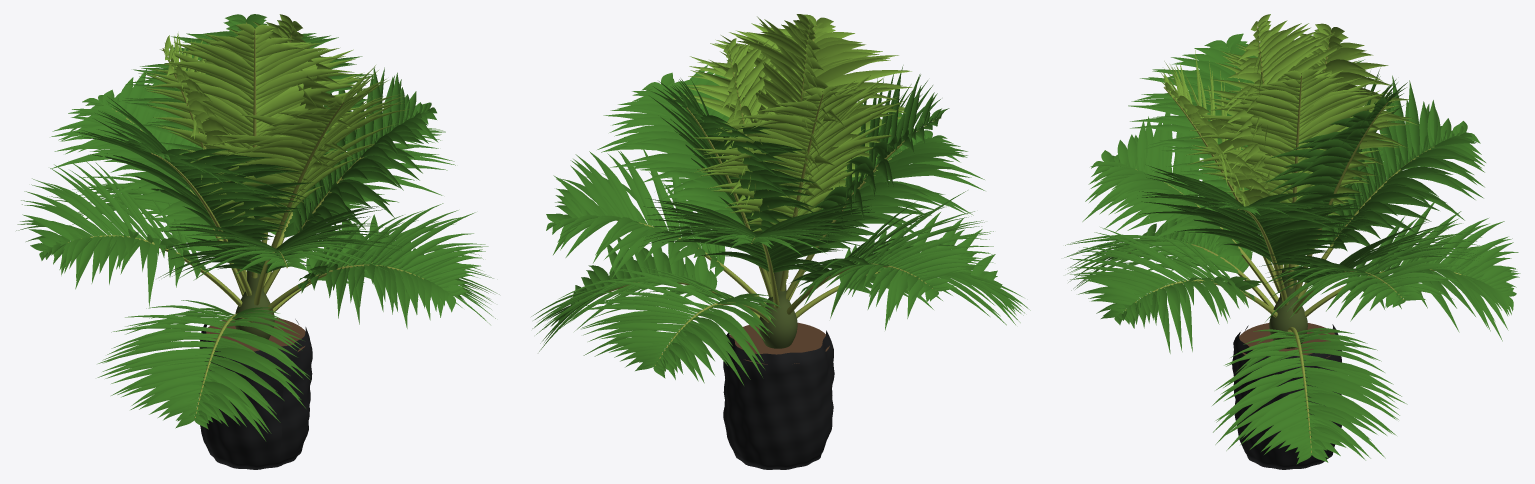
The model's file is bibit-kelapa-sawit-12-bulan.glb.
The picture shows the model from 3 angles, left to right: view 1: azimuth 30°, elevation 25°; view 2: azimuth 150°, elevation 25°; view 3: azimuth 270°, elevation 25°; orthographic projection. The views are drawn at different scales.
Visible parts, largest first — view 1: anak_daun_2, anak_daun_15, anak_daun_5, anak_daun_4, anak_daun_10, anak_daun_12, anak_daun_9, polybag, anak_daun_8, anak_daun_7, anak_daun_11, anak_daun_13 (+8 smaller); view 2: anak_daun_3, polybag, anak_daun_13, anak_daun_6, anak_daun_5, anak_daun_9, anak_daun_8, anak_daun_11, anak_daun_12, anak_daun_7, anak_daun_15, anak_daun_1 (+5 smaller); view 3: anak_daun_1, anak_daun_8, anak_daun_14, anak_daun_4, anak_daun_9, anak_daun_6, anak_daun_7, anak_daun_3, anak_daun_10, anak_daun_15, anak_daun_13, anak_daun_11 (+5 smaller).
Part boxes in pixels (bbox=[...]): anak_daun_2: bbox=[97, 300, 310, 440]; anak_daun_15: bbox=[143, 23, 371, 179]; anak_daun_5: bbox=[16, 161, 208, 307]; anak_daun_4: bbox=[298, 203, 488, 328]; anak_daun_10: bbox=[74, 96, 313, 242]; anak_daun_12: bbox=[196, 65, 409, 230]; anak_daun_9: bbox=[292, 67, 438, 233]; polybag: bbox=[199, 319, 312, 469]; anak_daun_8: bbox=[51, 69, 213, 234]; anak_daun_7: bbox=[158, 205, 401, 280]; anak_daun_11: bbox=[119, 14, 376, 188]; anak_daun_13: bbox=[164, 33, 246, 200]; anak_daun_3: bbox=[579, 267, 780, 385]; polybag: bbox=[723, 330, 834, 469]; anak_daun_13: bbox=[692, 74, 905, 231]; anak_daun_6: bbox=[546, 149, 725, 278]; anak_daun_5: bbox=[783, 190, 994, 330]; anak_daun_9: bbox=[597, 65, 744, 225]; anak_daun_8: bbox=[641, 198, 874, 272]; anak_daun_11: bbox=[650, 79, 815, 235]; anak_daun_12: bbox=[682, 14, 913, 193]; anak_daun_7: bbox=[818, 101, 984, 249]; anak_daun_15: bbox=[697, 14, 846, 216]; anak_daun_1: bbox=[531, 238, 717, 351]; anak_daun_1: bbox=[1212, 328, 1407, 464]; anak_daun_8: bbox=[1324, 75, 1485, 251]; anak_daun_14: bbox=[1185, 69, 1398, 204]; anak_daun_4: bbox=[1070, 227, 1263, 353]; anak_daun_9: bbox=[1136, 165, 1371, 265]; anak_daun_6: bbox=[1259, 221, 1483, 321]; anak_daun_7: bbox=[1082, 112, 1247, 258]; anak_daun_3: bbox=[1346, 202, 1520, 341]; anak_daun_10: bbox=[1128, 33, 1364, 199]; anak_daun_15: bbox=[1218, 14, 1359, 192]; anak_daun_13: bbox=[1202, 23, 1418, 215]; anak_daun_11: bbox=[1264, 68, 1407, 229].
Size of the model in its own units: 1.77 by 1.76 by 1.72.
